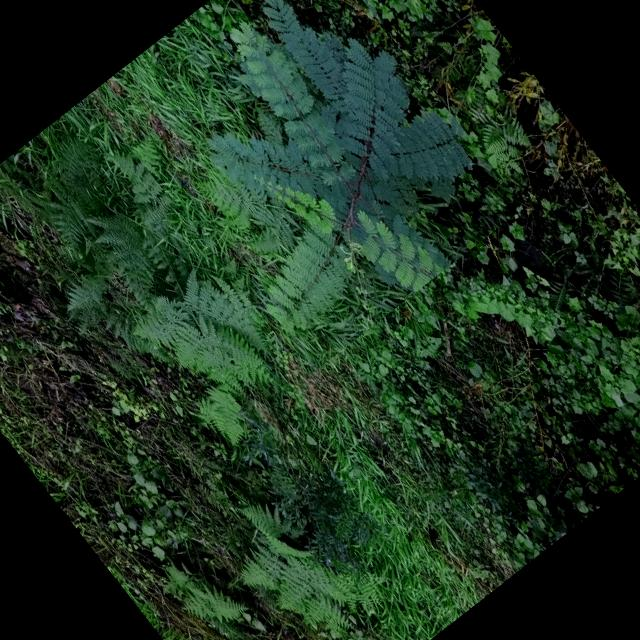Mysore-Thorn-Weed: (89, 0, 525, 375)
